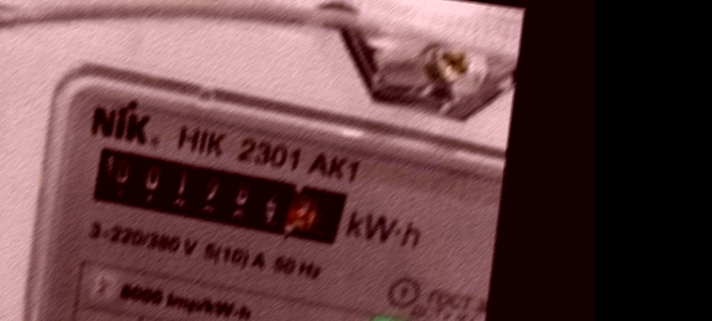0: (113, 155, 133, 186), (143, 162, 163, 192)
1: (174, 165, 190, 196)
2: (263, 180, 285, 211)
8: (233, 177, 253, 207)
9: (293, 189, 317, 220), (203, 172, 221, 203)
screen: (74, 131, 364, 261)
